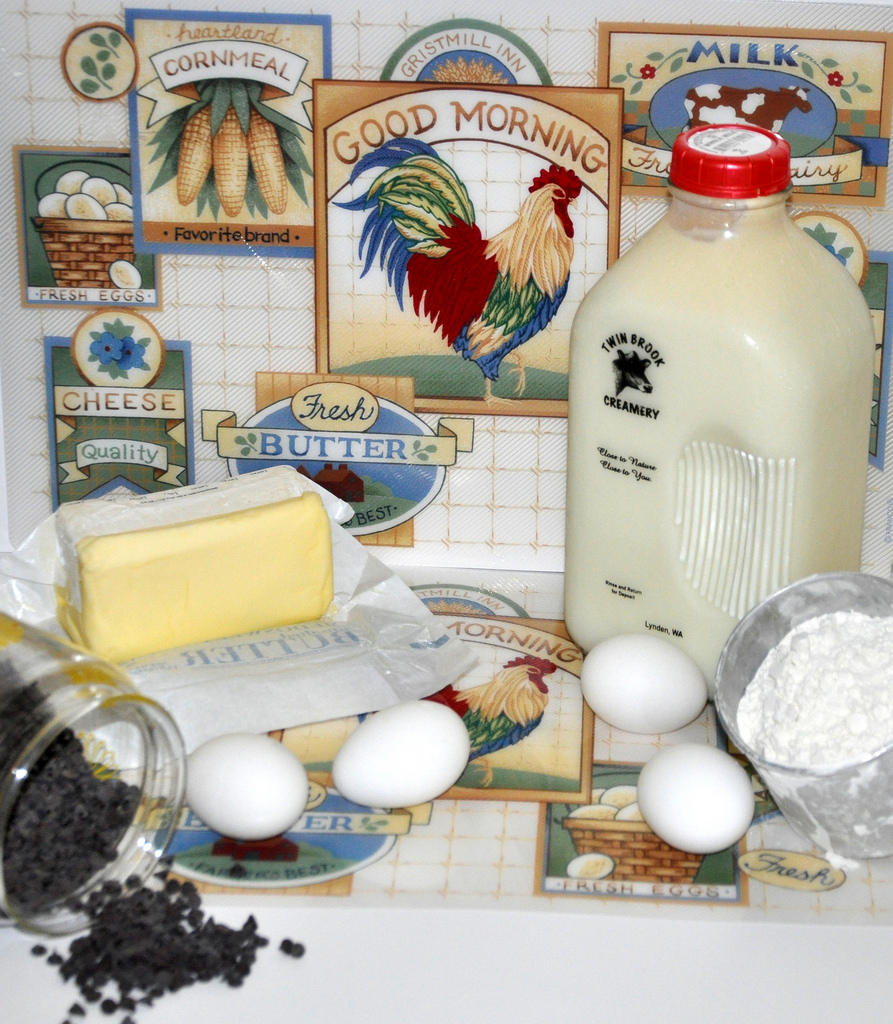glass of milk: (583, 207, 879, 641)
